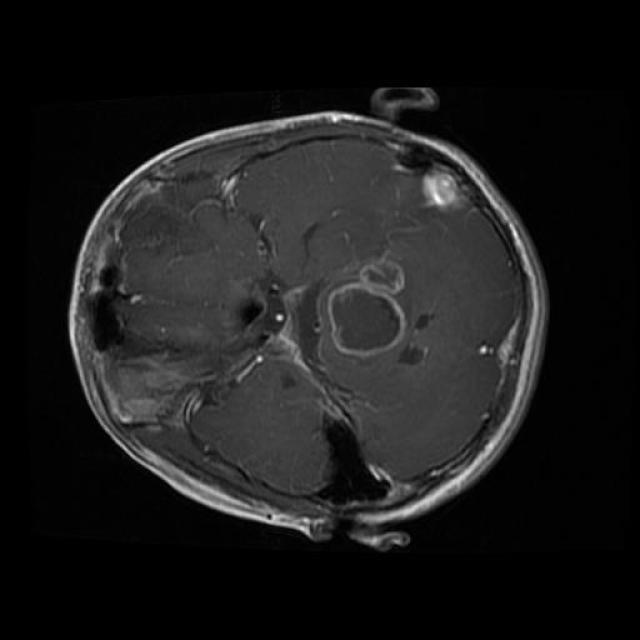Glioma: (324, 258, 409, 358), (422, 170, 457, 206)
